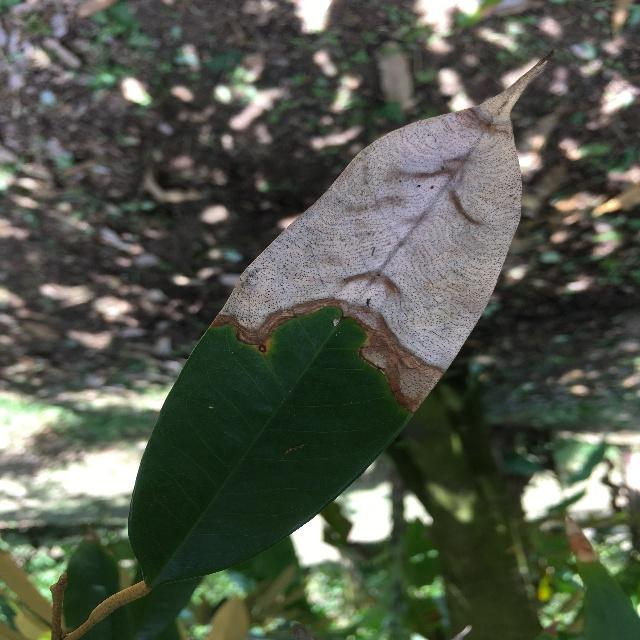Leaf Blight: (117, 68, 534, 593)
